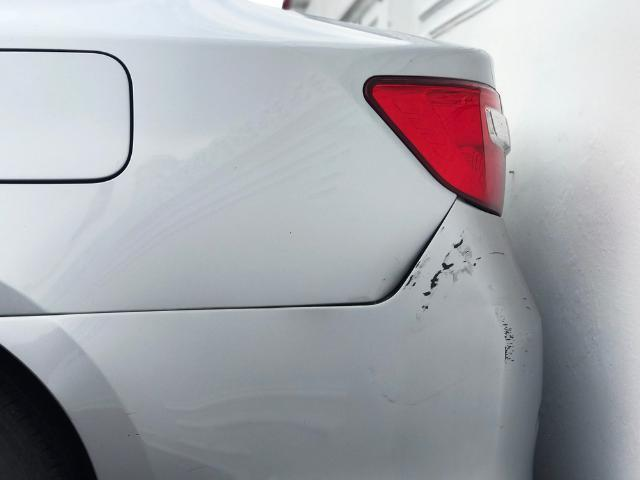scratch: (405, 224, 534, 369)
